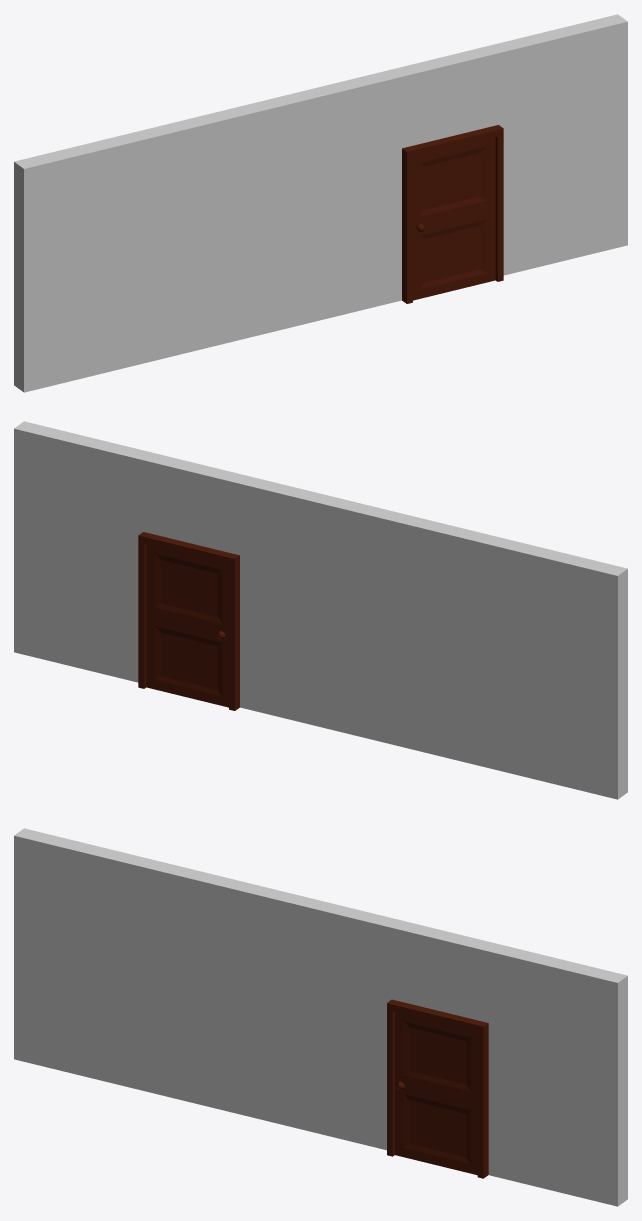
File: wall_02.FBX
3 views of the same model, one above another, from view 1: azimuth 30°, elevation 25°; view 2: azimuth 150°, elevation 25°; view 3: azimuth 330°, elevation 25° (orthographic).
Parts seen in each view (by area): view 1: Box017; view 2: Box017; view 3: Box017.
Part boxes in pixels (left/top/right/bottom): Box017: left=14, top=14, right=627, bottom=392; Box017: left=14, top=421, right=627, bottom=799; Box017: left=14, top=828, right=627, bottom=1206.
Bounding box in the file's own units: 454 × 161 × 31.78.
